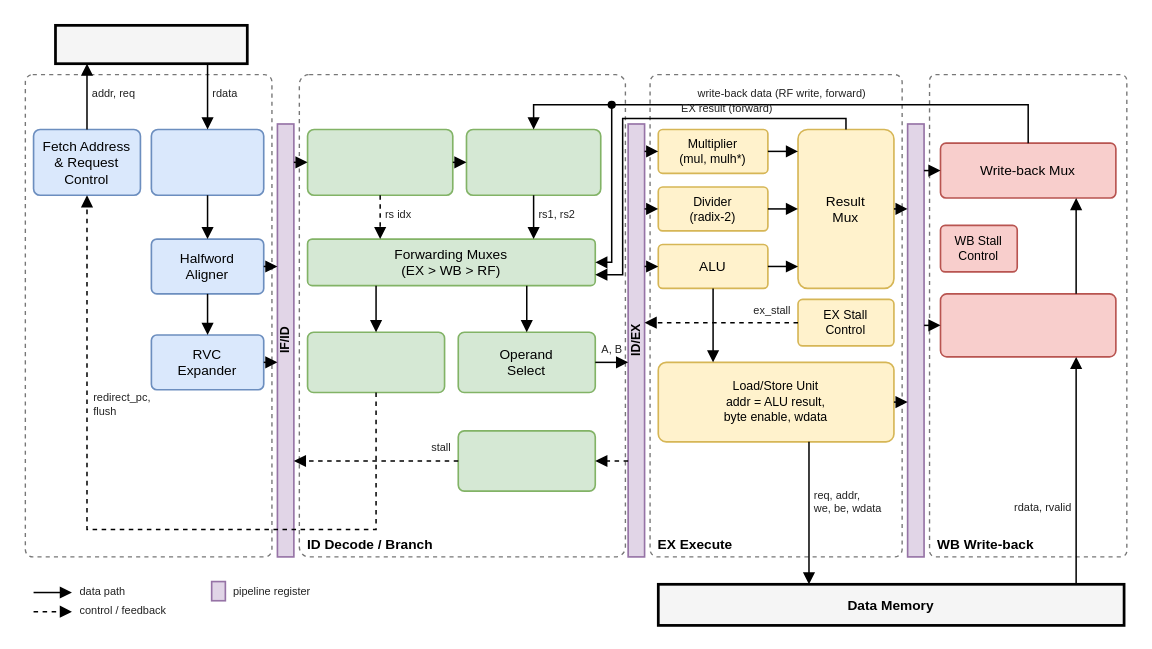
The diagram is 1152 pixels wide and 649 high, and some of its shapes have lost their labels. The shapes that lost their labels are listed below. From the top down, each one's box as (x1, y1, x2, y2) in pixels, then its label:
(53, 23, 248, 64): Instruction Memory
(150, 128, 264, 195): Prefetch FIFO (4 words)
(306, 128, 453, 195): Instruction Decoder
(465, 128, 601, 195): Register File 32×32, 2R1W
(24, 73, 272, 557): IF Instruction Fetch
(939, 292, 1116, 357): Load Data Align & Sign Extend
(906, 122, 924, 557): EX/WB
(306, 331, 445, 393): Branch Compare & Target Adders
(457, 429, 595, 491): Load-Use Hazard Detect
